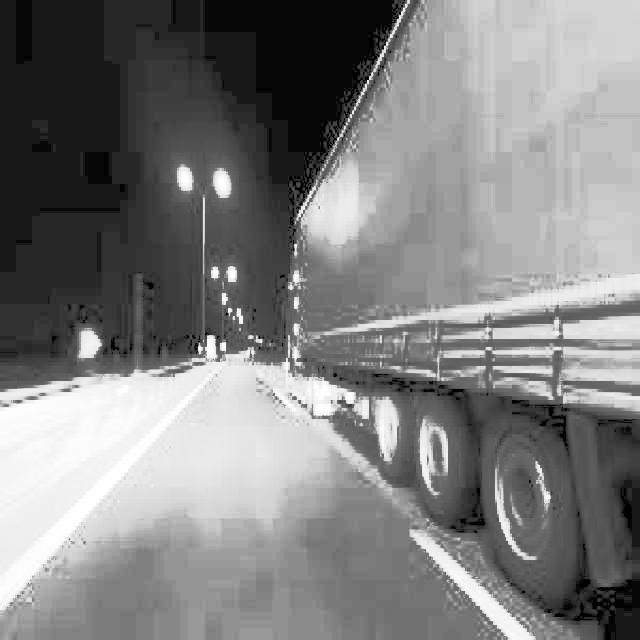Truck: (284, 0, 638, 613)
